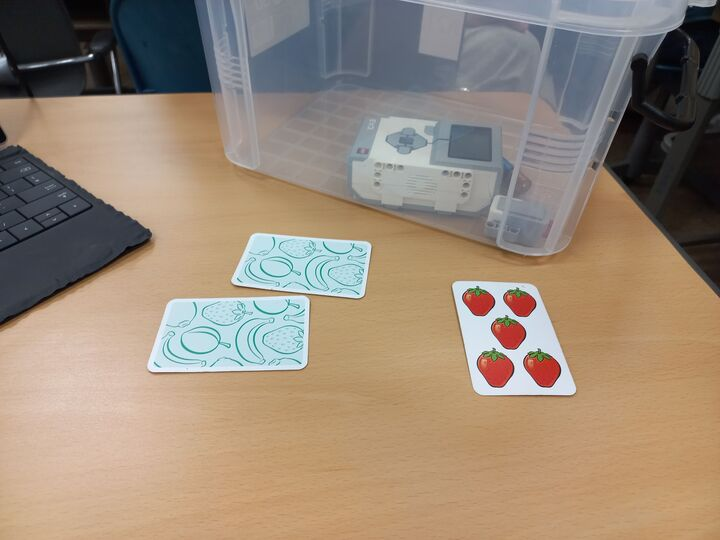strawberry5: (451, 278, 580, 397)
